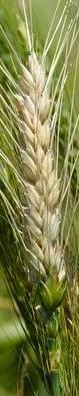Wheat scab: (8, 47, 79, 314)
